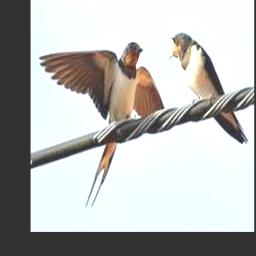Swallow: (39, 42, 166, 207), (170, 34, 250, 144)
